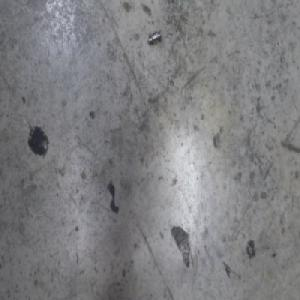Bolt: (148, 27, 163, 45)
